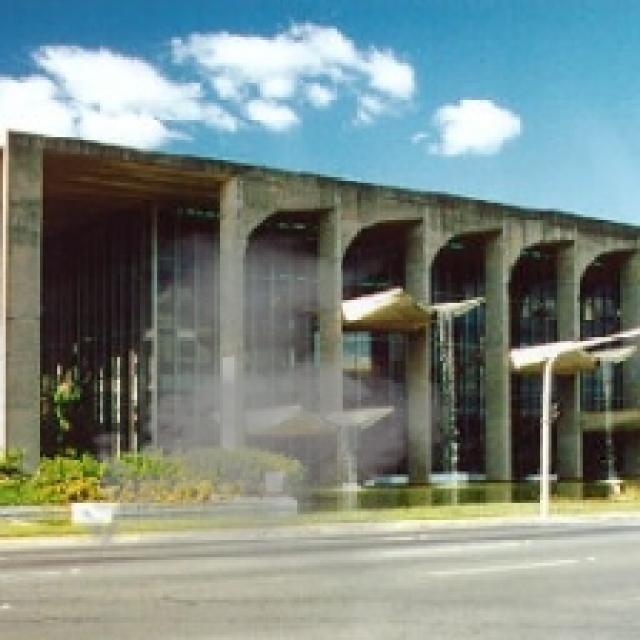smoke: (66, 232, 468, 597)
